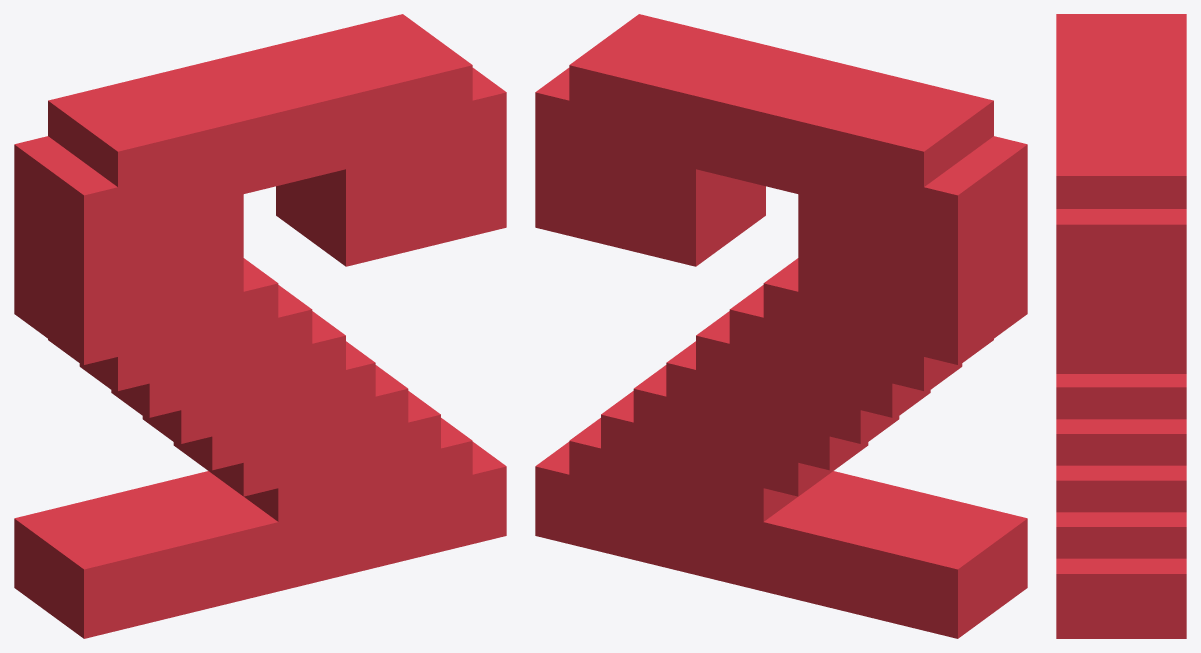
The model's file is two.glb.
3 views of the same model, side by side, from view 1: azimuth 30°, elevation 25°; view 2: azimuth 150°, elevation 25°; view 3: azimuth 270°, elevation 25° (orthographic). The views are drawn at different scales.
Parts seen in each view (by area): view 1: two; view 2: two; view 3: two.
Part boxes in pixels (x1=…): two: x1=14, y1=14, x2=506, y2=638; two: x1=535, y1=14, x2=1027, y2=638; two: x1=1056, y1=14, x2=1186, y2=638.
Size of the model in its own units: 1.75 by 1.89 by 0.5.
